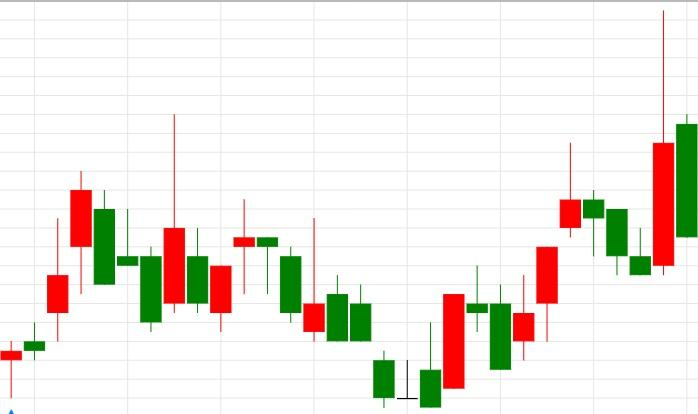inverse_hammer_rise: (233, 199, 326, 341)
shooting_star_fall: (489, 142, 582, 370)
